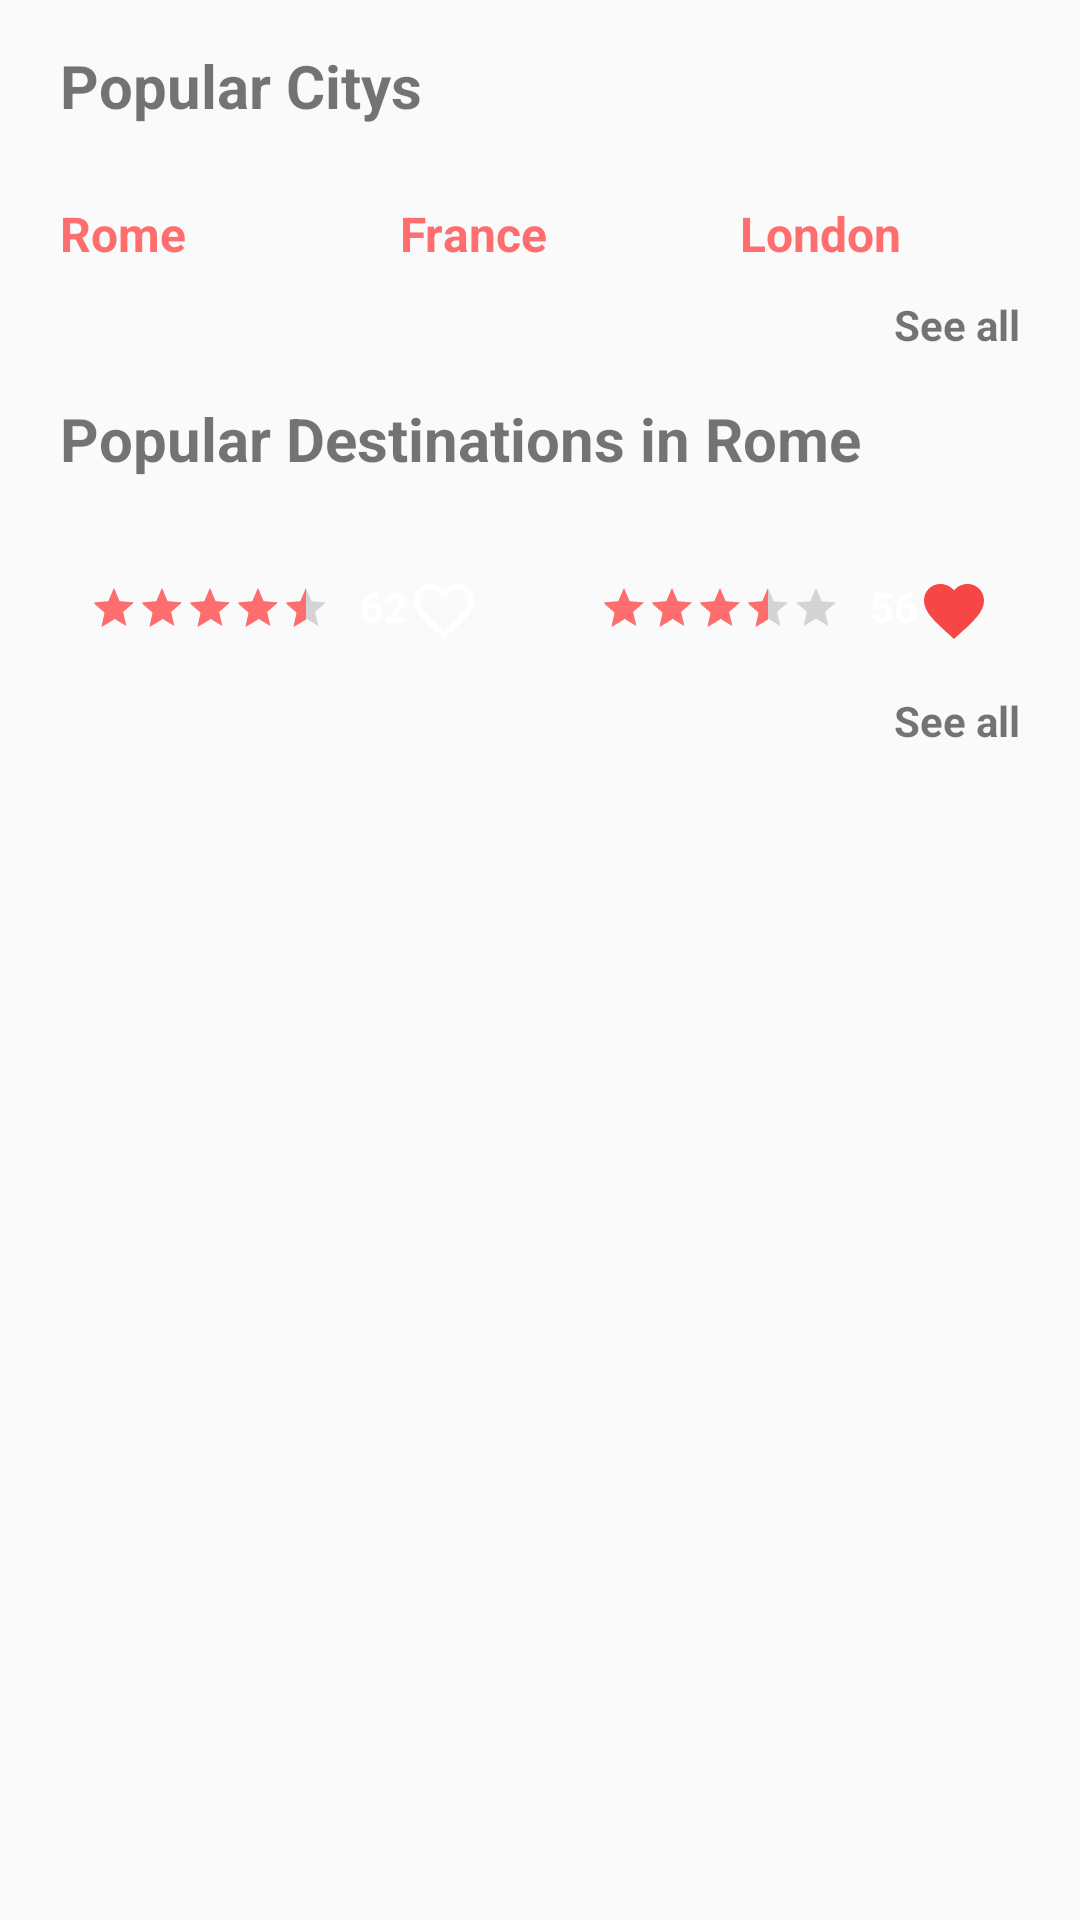

Point at icon controls on the screen. Image size 1080 x 1920, points as (x,y).
favfill: (954,611)
